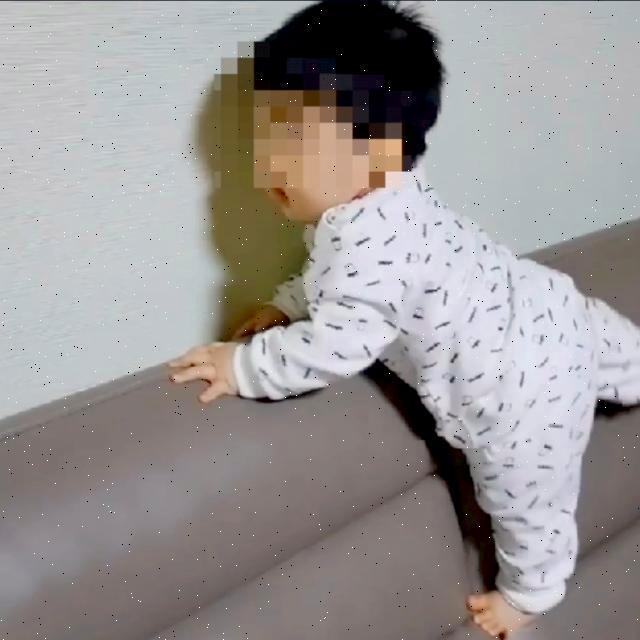child: (175, 0, 603, 640)
